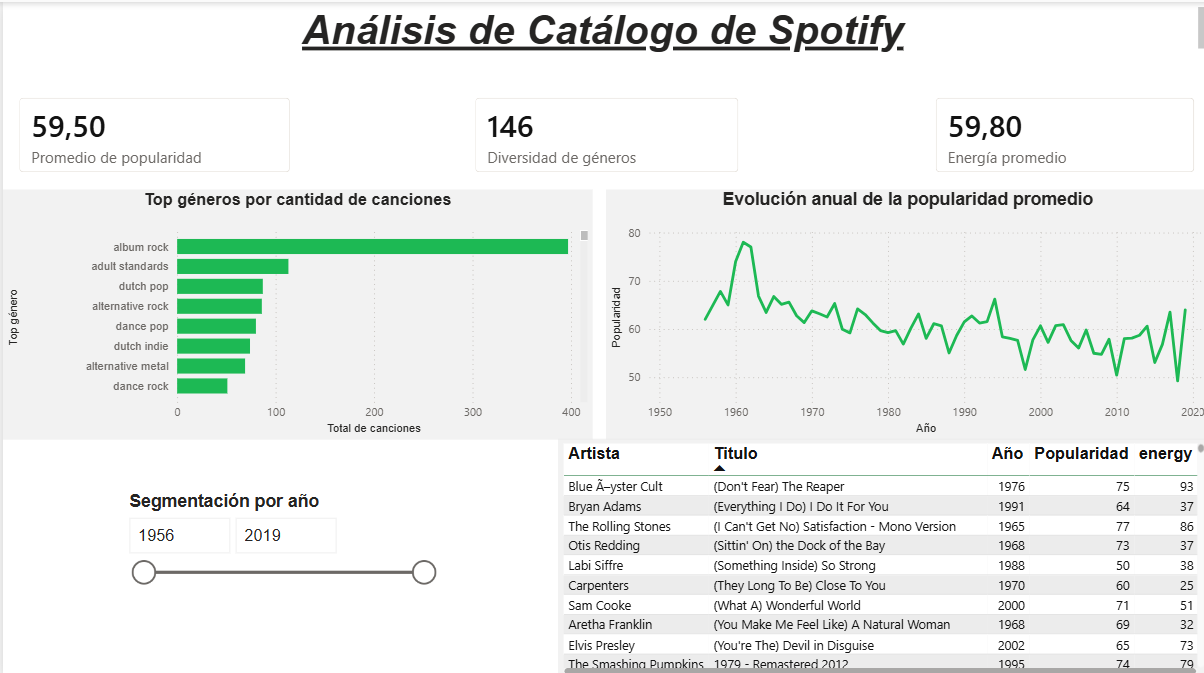

The dashboard page shown, as its layout file describes it:
{"tool":"powerbi","page":{"name":"Dashboard","canvas":[1280,720],"ordinal":0},"visuals":[{"type":"cardVisual","fields":{"Data":["Avg(spotify_clean (2).popularity)"]},"box":[0,85,321.7,113.3],"z":0},{"type":"cardVisual","fields":{"Data":["Avg(spotify_clean (2).energy)"]},"box":[971.7,85,308.3,113.3],"z":1000},{"type":"cardVisual","fields":{"Data":["Count(spotify_clean (2).top_genre)"]},"box":[483.3,85,313.3,113.3],"z":2000},{"type":"lineChart","title":"Evolución anual de la popularidad promedio","fields":{"Category":["spotify_clean (2).year"],"Y":["Avg(spotify_clean (2).popularity)"]},"box":[640,198.3,640,265],"z":3000},{"type":"barChart","title":"Top géneros por cantidad de canciones","fields":{"Category":["spotify_clean (2).top_genre"],"Y":["CountNonNull(spotify_clean (2).title)"]},"box":[0,198.3,625,265],"z":4000},{"type":"tableEx","fields":{"Values":["spotify_clean (2).artist","spotify_clean (2).title","spotify_clean (2).year","spotify_clean (2).popularity","spotify_clean (2).energy"]},"box":[588.3,463.3,691.7,256.7],"z":5000},{"type":"slicer","fields":{"Values":["spotify_clean (2).year"]},"box":[121.7,513.3,346.7,156.7],"z":6000},{"type":"textbox","box":[0,0,1280,56.7],"z":7000}]}

Visuals, with their boxes in screenshot pixels (x1, y1, x2, y2), scaled from the page's 1280x720 canvas onto the 1204x673 screenshot:
cardVisual - Avg(spotify_clean (2).popularity): bbox(0, 79, 303, 185)
cardVisual - Avg(spotify_clean (2).energy): bbox(914, 79, 1203, 185)
cardVisual - Count(spotify_clean (2).top_genre): bbox(455, 79, 749, 185)
"Evolución anual de la popularidad promedio" lineChart: bbox(602, 185, 1203, 433)
"Top géneros por cantidad de canciones" barChart: bbox(0, 185, 588, 433)
tableEx - spotify_clean (2).artist x spotify_clean (2).title: bbox(553, 433, 1203, 672)
slicer - spotify_clean (2).year: bbox(114, 480, 441, 626)
textbox: bbox(0, 0, 1203, 53)
